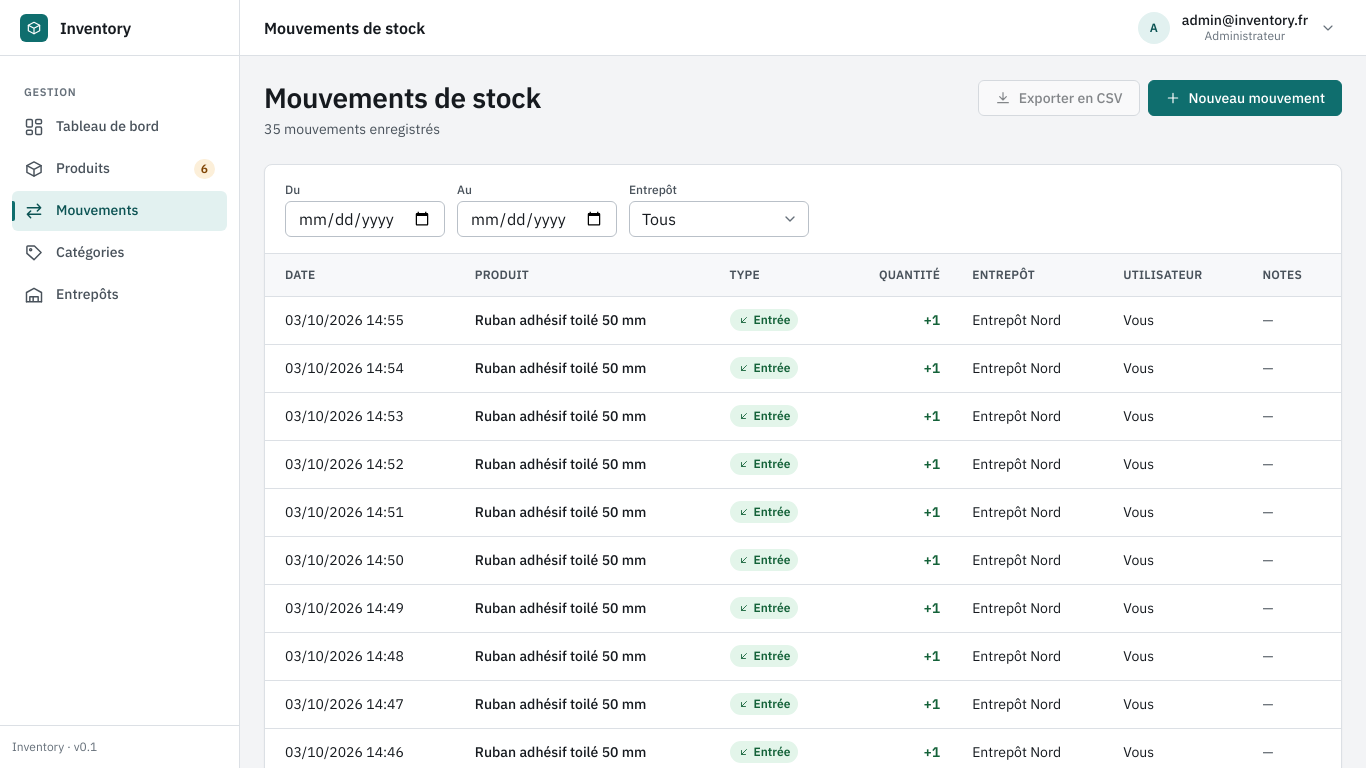
Test: MovementsPage › goes back to the first page when a filter changes
The image size is (1366, 768).
expect the heading "Mouvements de stock" is shown: met, box [264,80,541,115]
Select "Entrepôt Nord" in the dropdown labelled "Entrepôt": (719, 219) [629,201,809,237]
(page scrolled)
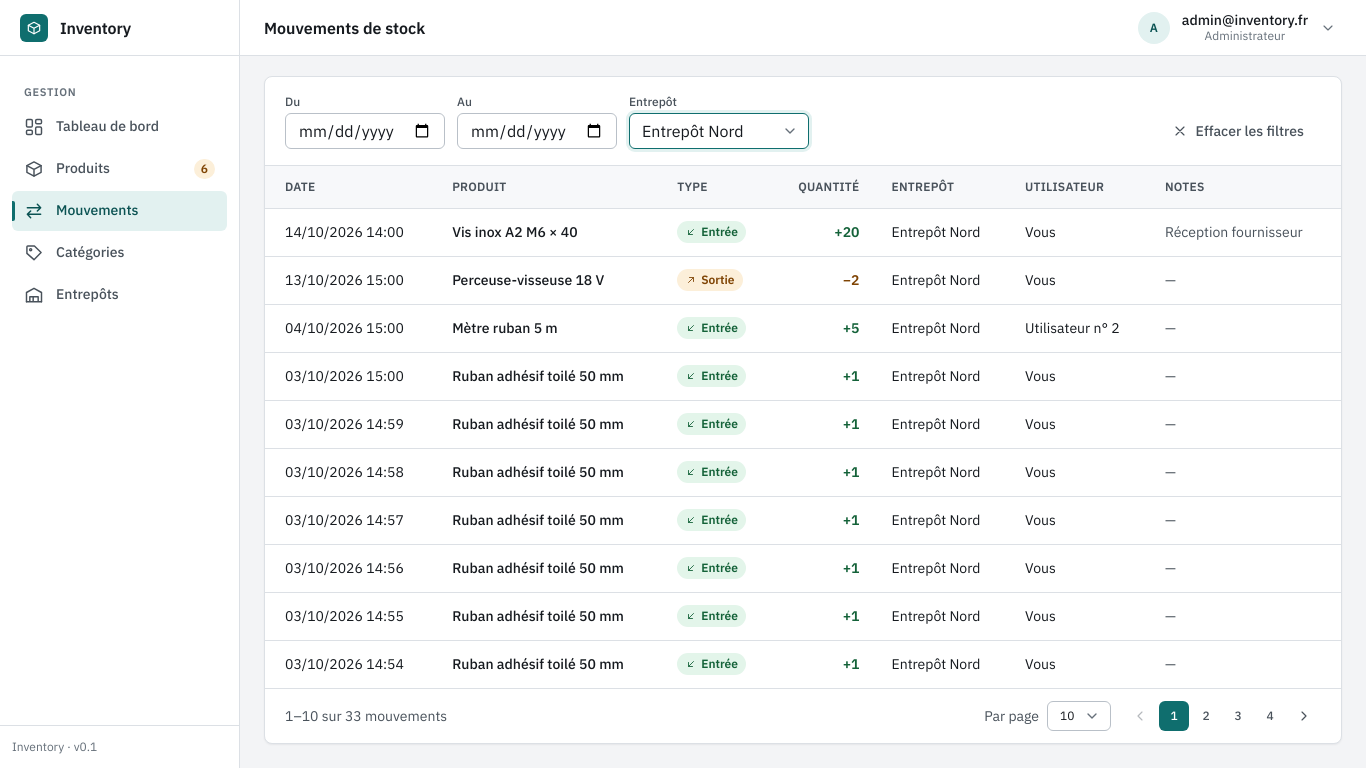
expect the navigation bar named "Pagination" shows "1–10 sur 33 mouvements": met, box [285,706,447,724]
